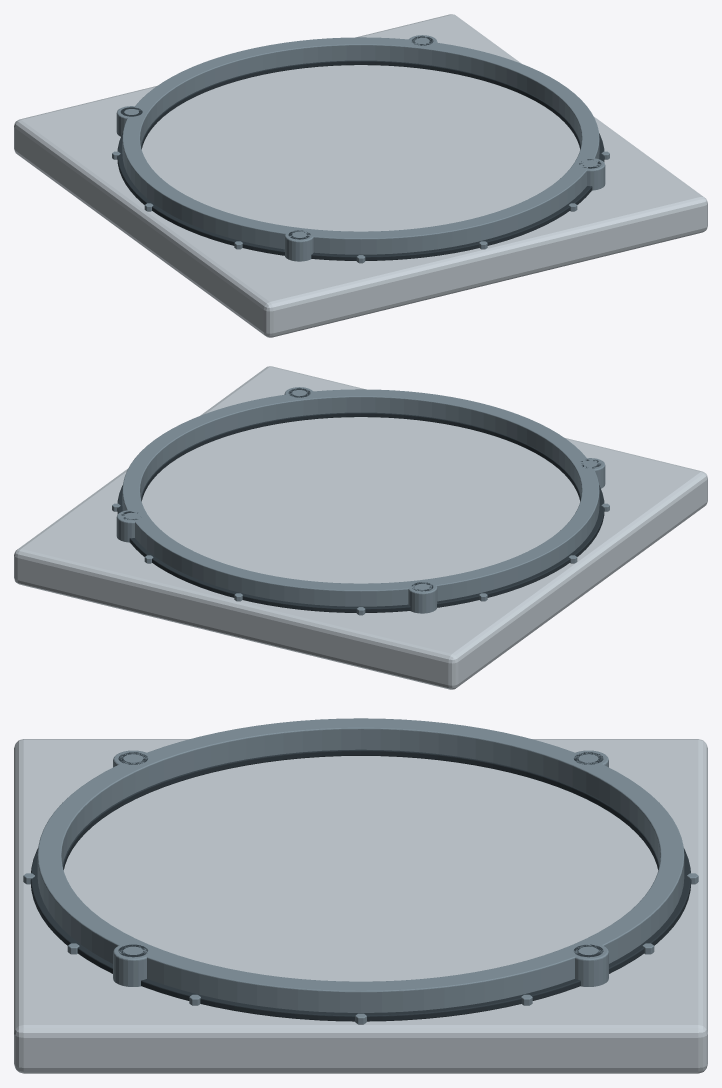
The model's file is specimen_seal_cap.glb.
The picture shows the model from 3 angles, top to bottom: view 1: azimuth 30°, elevation 25°; view 2: azimuth 150°, elevation 25°; view 3: azimuth 270°, elevation 25°; orthographic projection. The views are drawn at different scales.
Parts seen in each view (by area): view 1: specimen_seal_cap; view 2: specimen_seal_cap; view 3: specimen_seal_cap.
Boxes of the visible parts, <box> form: specimen_seal_cap: <box>14,14,707,337</box>; specimen_seal_cap: <box>14,366,707,689</box>; specimen_seal_cap: <box>14,718,707,1073</box>.
Bounding box in the file's own units: 2.5 × 0.3 × 2.5.
